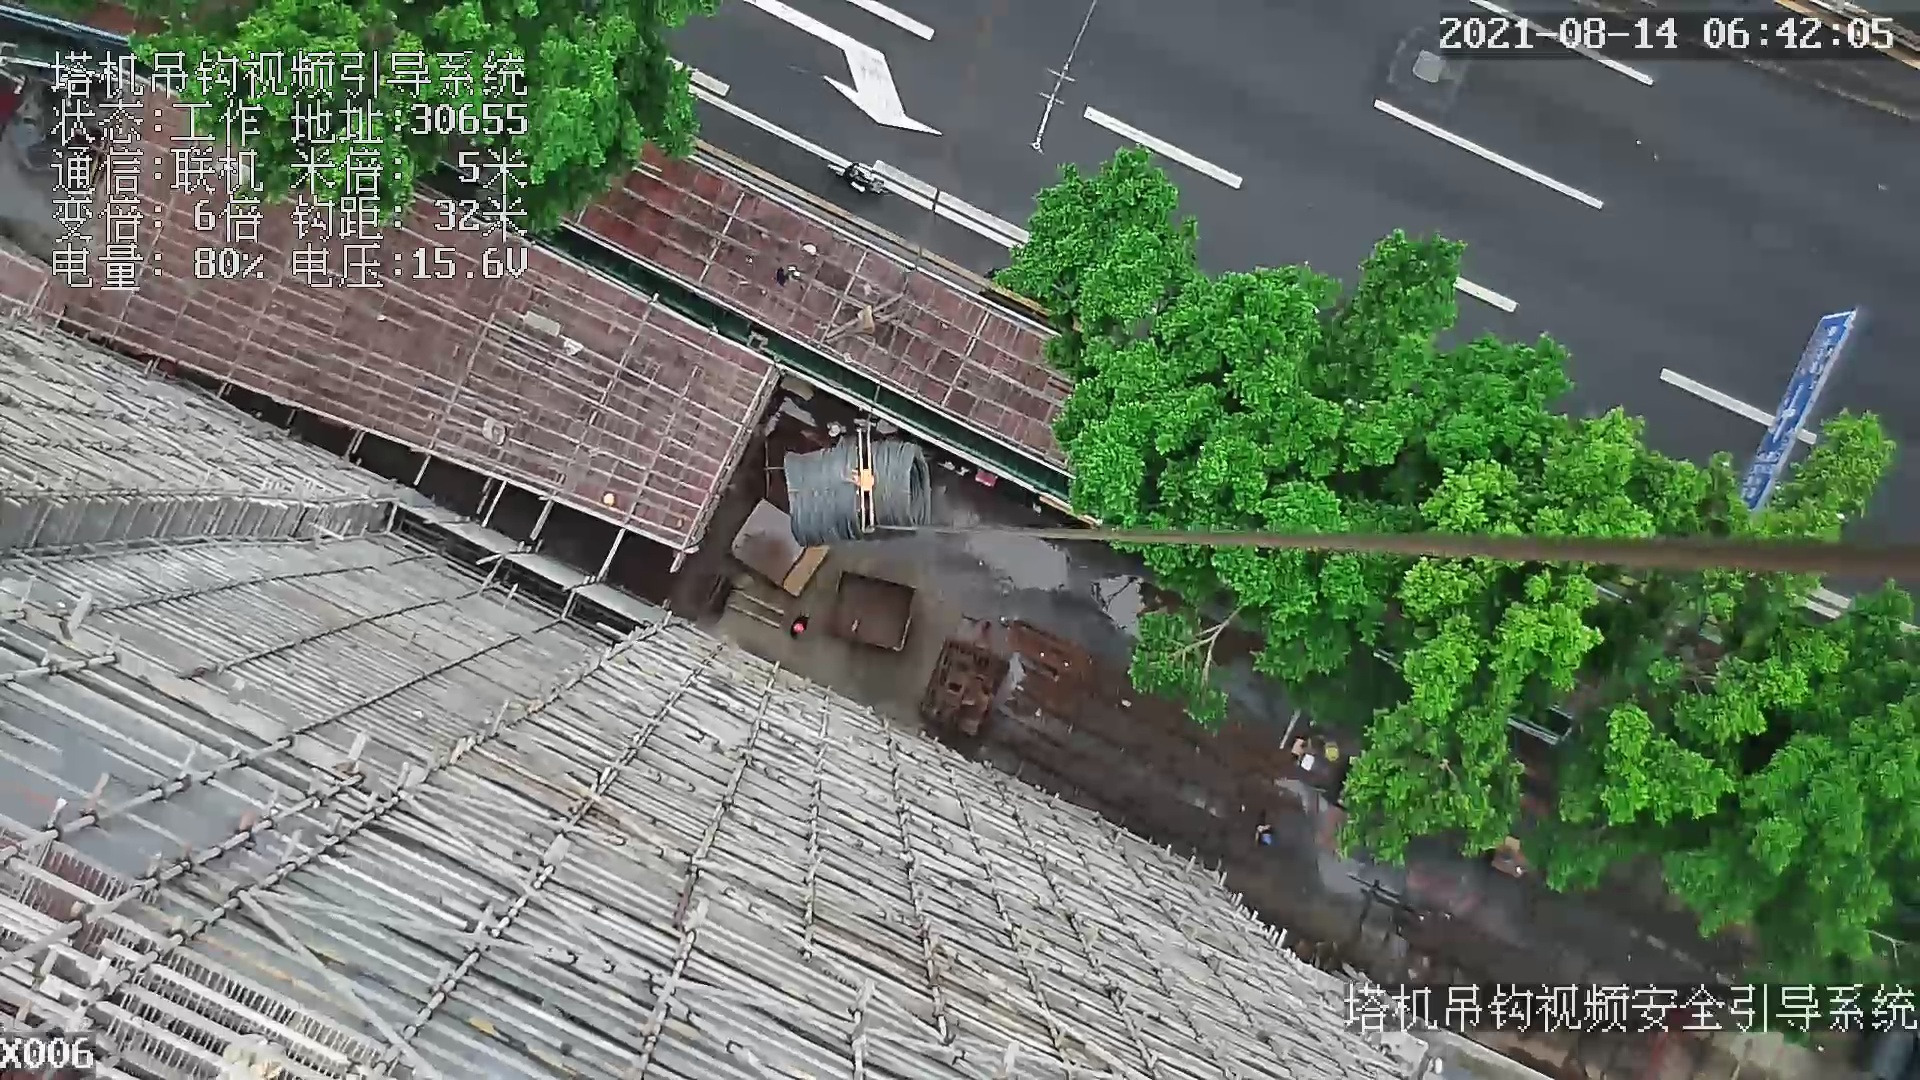hook: (838, 428, 881, 540)
person: (826, 158, 895, 202), (1254, 811, 1280, 852), (789, 616, 810, 643)
